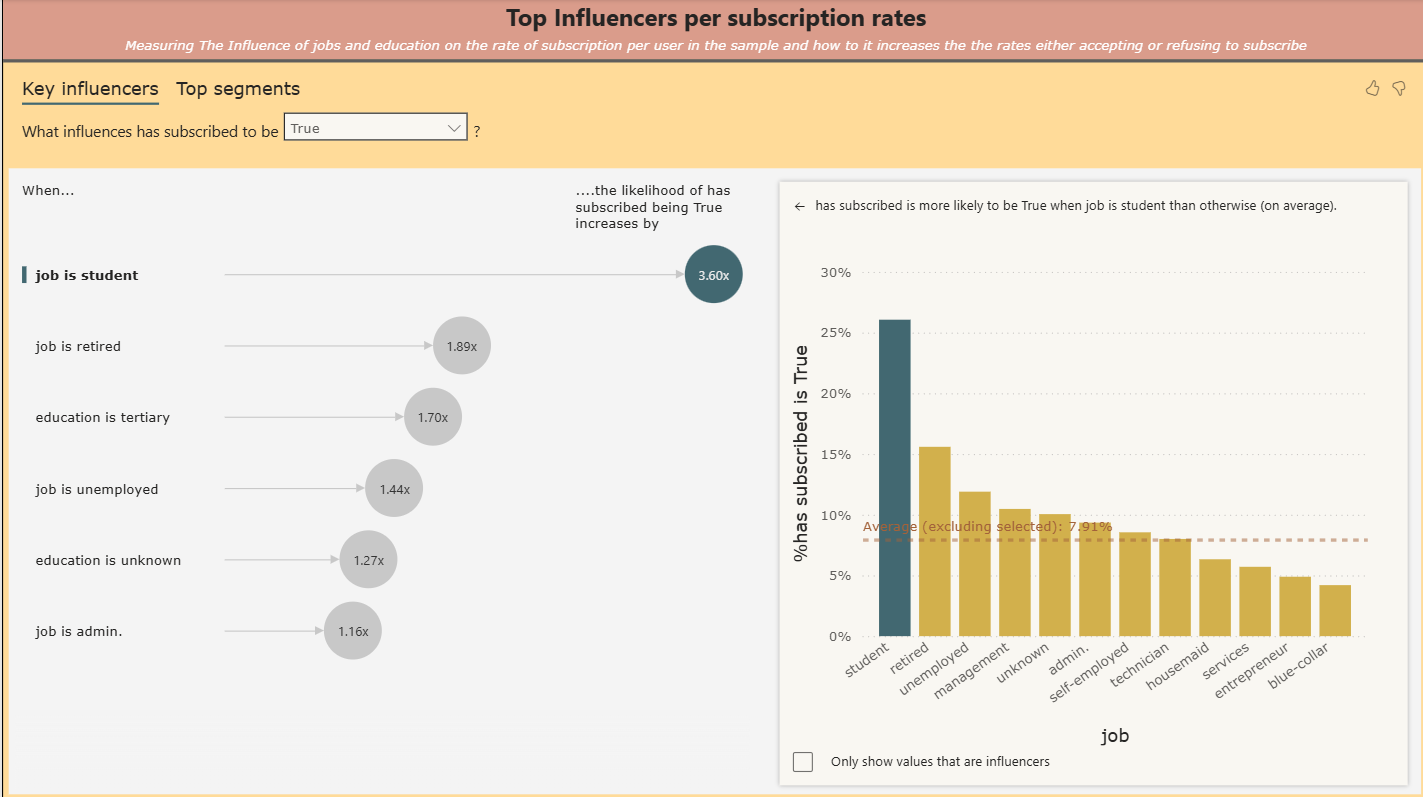

Layout of this report page (visuals, bound fields, positions):
{"tool":"powerbi","page":{"name":"Influence by job and education","canvas":[1280,720],"ordinal":2},"visuals":[{"type":"keyDriversVisual","title":"Top Influencers per subscription rates","fields":{"Target":["optimizedBankData.has subscribed"],"ExplainBy":["optimizedBankData.job Hierarchy.job","optimizedBankData.job Hierarchy.education"]},"box":[0,0,1280.2,720],"z":0}]}

Visuals, with their boxes in screenshot pixels (x1, y1, x2, y2), scaled from the page's 1280x720 canvas onto the 1423x797 screenshot:
"Top Influencers per subscription rates" keyDriversVisual: [left=0, top=0, right=1422, bottom=796]
